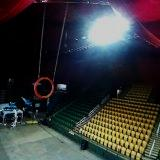Orange_Circle_GShape: (34, 76, 55, 98)
